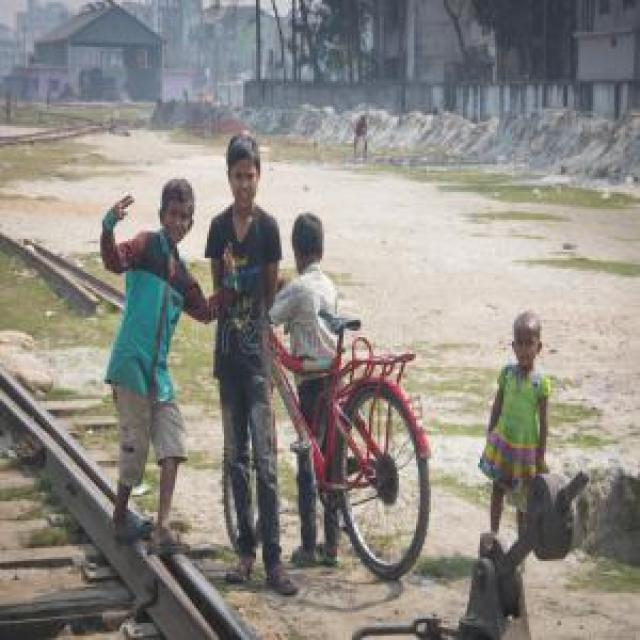danger: (96, 172, 218, 575), (198, 152, 292, 584), (479, 309, 551, 557), (269, 212, 350, 353), (354, 114, 369, 161), (5, 95, 14, 123), (181, 84, 190, 106), (157, 95, 163, 110)
rail: (0, 350, 270, 638), (0, 102, 112, 159)
